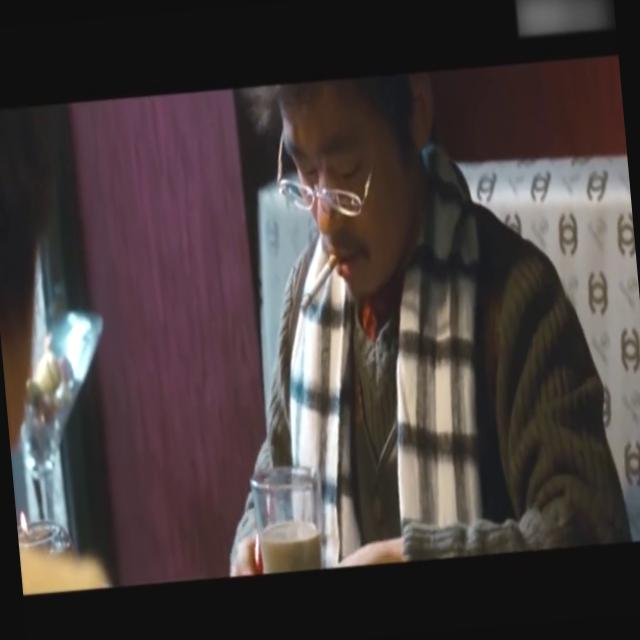cigarette: (286, 248, 346, 321)
